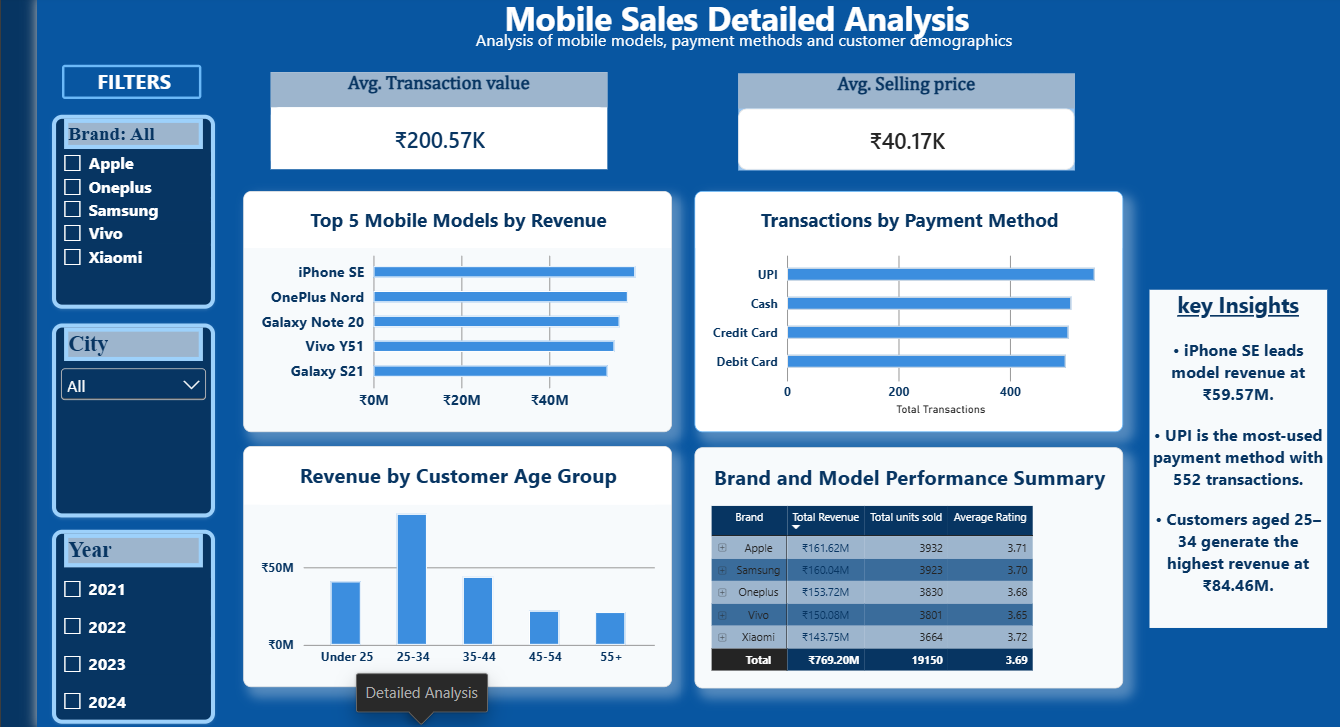

The page's visual inventory and layout, read from the dashboard file:
{"tool":"powerbi","page":{"name":"Detailed Analysis","canvas":[1280,720],"ordinal":1},"visuals":[{"type":"cardVisual","title":"Avg. Transaction value","fields":{"Data":["_Measures.Average Transaction Value"]},"box":[230,75,330,95],"z":0},{"type":"cardVisual","title":"Avg. Selling price ","fields":{"Data":["_Measures.Average Selling Price"]},"box":[688.3,76,330,95],"z":1000},{"type":"clusteredBarChart","title":"Top 5 Mobile Models by Revenue","fields":{"Category":["customer_details.Mobile Model"],"Y":["_Measures.Total Revenue"]},"box":[202,192,421,237],"z":2000},{"type":"clusteredBarChart","title":"Transactions by Payment Method","fields":{"Category":["customer_details.Payment Method"],"Y":["_Measures.Total Transactions"]},"box":[646,192,421,237],"z":3000},{"type":"clusteredColumnChart","title":"Revenue by Customer Age Group","fields":{"Y":["_Measures.Total Revenue"],"Category":["customer_details.Age Group"]},"box":[202,442,421,237],"z":4000},{"type":"slicer","fields":{"Values":["customer_details.Brand"]},"box":[14.3,117.1,160,190],"z":5000},{"type":"slicer","fields":{"Values":["customer_details.City"]},"box":[14.3,321.4,160,190],"z":6000},{"type":"textbox","box":[300,0,775,67.5],"z":7000},{"type":"textbox","box":[317.5,32.5,752.5,85],"z":8000},{"type":"slicer","fields":{"Values":["customer_details.Year"]},"box":[14.3,524.3,160,190],"z":9000},{"type":"textbox","title":"FILTERS","box":[24.1,67.4,137.1,33.7],"z":10000},{"type":"textbox","box":[1092,288,174,332],"z":11000},{"type":"pivotTable","title":"Brand and Model Performance Summary","fields":{"Rows":["customer_details.Brand","customer_details.Mobile Model"],"Values":["_Measures.Total Revenue","_Measures.Total units sold","_Measures.Average Rating"]},"box":[645.8,442.5,421,237],"z":12000}]}

Visuals, with their boxes on the page's 1280x720 design canvas (x1, y1, x2, y2). These are canvas units, not pixel positions in the 1340x727 screenshot, which may show the page scaled, cropped or inside an application window:
"Avg. Transaction value" cardVisual: x1=230, y1=75, x2=560, y2=170
"Avg. Selling price " cardVisual: x1=688, y1=76, x2=1018, y2=171
"Top 5 Mobile Models by Revenue" clusteredBarChart: x1=202, y1=192, x2=623, y2=429
"Transactions by Payment Method" clusteredBarChart: x1=646, y1=192, x2=1067, y2=429
"Revenue by Customer Age Group" clusteredColumnChart: x1=202, y1=442, x2=623, y2=679
slicer - customer_details.Brand: x1=14, y1=117, x2=174, y2=307
slicer - customer_details.City: x1=14, y1=321, x2=174, y2=511
textbox: x1=300, y1=0, x2=1075, y2=68
textbox: x1=318, y1=32, x2=1070, y2=118
slicer - customer_details.Year: x1=14, y1=524, x2=174, y2=714
"FILTERS" textbox: x1=24, y1=67, x2=161, y2=101
textbox: x1=1092, y1=288, x2=1266, y2=620
"Brand and Model Performance Summary" pivotTable: x1=646, y1=442, x2=1067, y2=680
